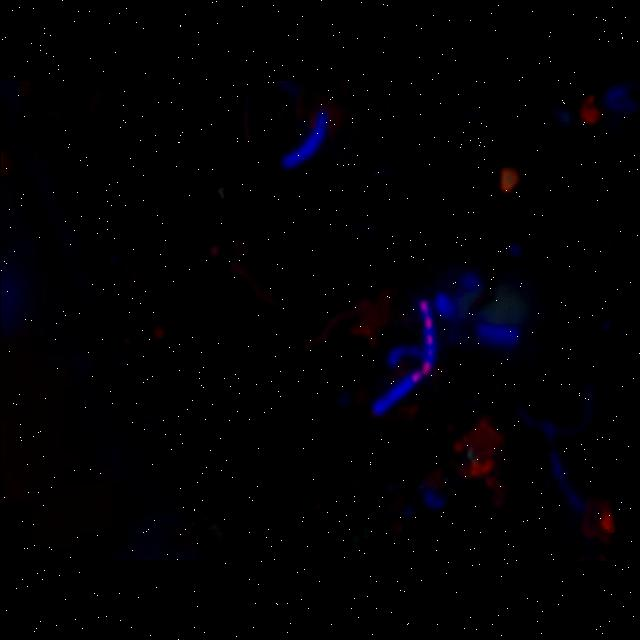Fragment: (575, 93, 599, 123)
